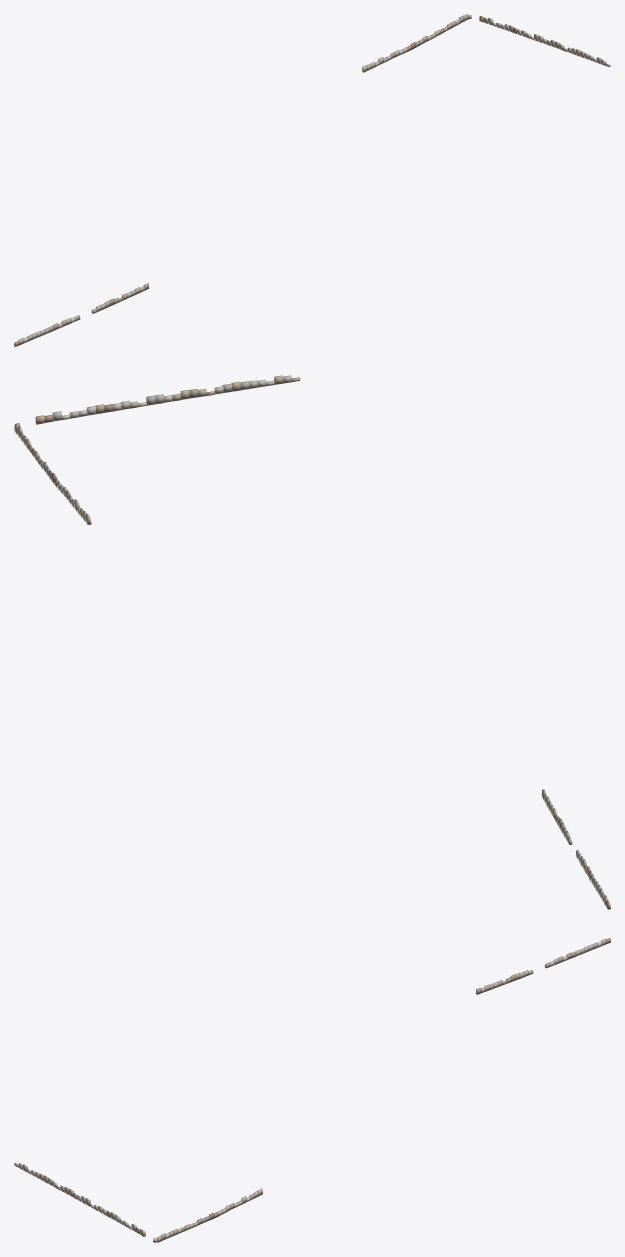
File: farm_-10_0_collision.glb
3 views of the same model, one above another, from view 1: azimuth 90°, elevation 25°; view 2: azimuth 150°, elevation 25°; view 3: azimuth 270°, elevation 25° (orthographic). The views are drawn at different scales.
Visible parts, largest first — view 1: geometry_0; view 2: geometry_0; view 3: geometry_0.
Boxes of the visible parts, bbox=[...] form: geometry_0: bbox=[14, 14, 610, 346]; geometry_0: bbox=[14, 375, 610, 909]; geometry_0: bbox=[14, 938, 610, 1242].
Bounding box in the file's own units: 192 × 9.25 × 154.
